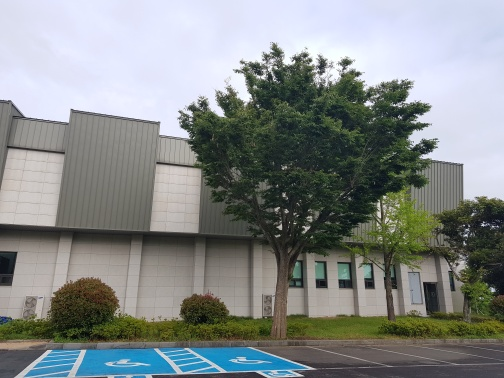Gym: (7, 101, 475, 330), (283, 240, 458, 324)
